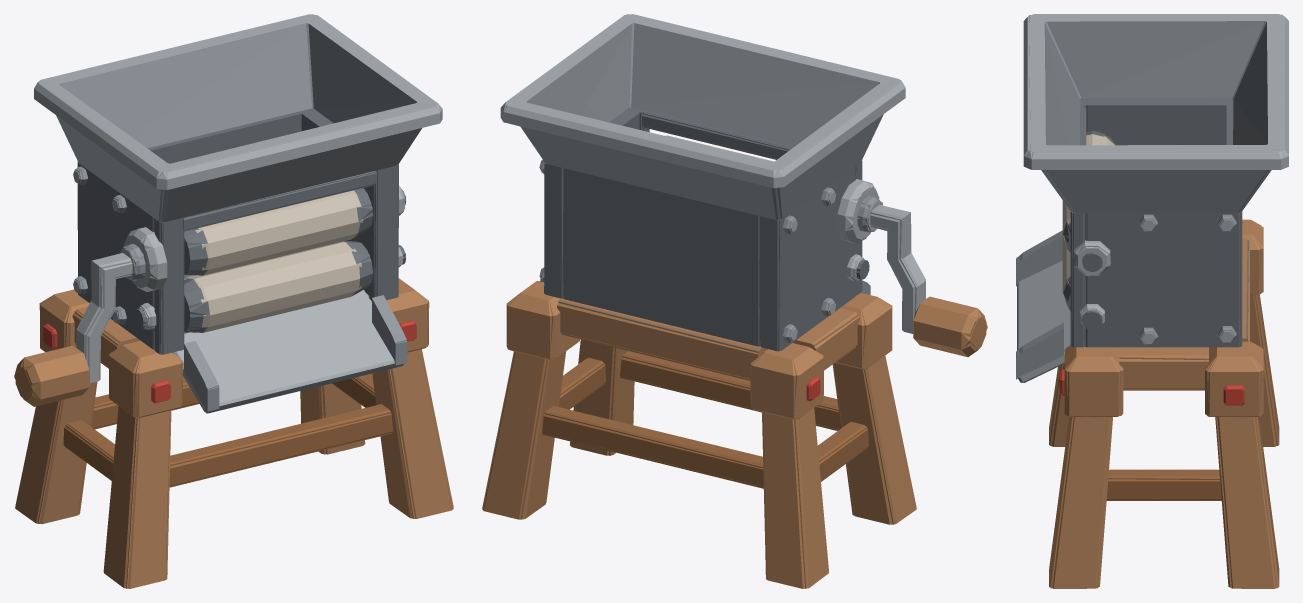
Rendered from FMS_Workshop_STA_04.fbx.
The picture shows the model from 3 angles, left to right: view 1: azimuth 30°, elevation 25°; view 2: azimuth 150°, elevation 25°; view 3: azimuth 270°, elevation 25°; orthographic projection. The views are drawn at different scales.
Parts seen in each view (by area): view 1: FMS_Workshop_STA_04_Frame, FMS_Workshop_STA_04_Frame_Low1, FMS_Workshop_STA_04_Roller_A, FMS_Workshop_STA_04_Roller_B, FMS_Workshop_STA_04_Crank, FMS_Workshop_STA_04_Roller_B_Low1, FMS_Workshop_STA_04_Roller_A_Low1, FMS_Workshop_STA_04_Crank_Low1; view 2: FMS_Workshop_STA_04_Frame, FMS_Workshop_STA_04_Frame_Low1, FMS_Workshop_STA_04_Crank, FMS_Workshop_STA_04_Crank_Low1; view 3: FMS_Workshop_STA_04_Frame, FMS_Workshop_STA_04_Frame_Low1, FMS_Workshop_STA_04_Roller_A, FMS_Workshop_STA_04_Roller_B, FMS_Workshop_STA_04_Roller_A_Low1, FMS_Workshop_STA_04_Roller_B_Low1.
Part boxes in pixels (<box>): FMS_Workshop_STA_04_Frame: <box>15,14,453,588</box>; FMS_Workshop_STA_04_Frame_Low1: <box>15,14,453,588</box>; FMS_Workshop_STA_04_Roller_A: <box>184,188,405,275</box>; FMS_Workshop_STA_04_Roller_B: <box>133,241,406,332</box>; FMS_Workshop_STA_04_Crank: <box>15,244,145,406</box>; FMS_Workshop_STA_04_Roller_B_Low1: <box>133,241,405,332</box>; FMS_Workshop_STA_04_Roller_A_Low1: <box>184,193,405,275</box>; FMS_Workshop_STA_04_Crank_Low1: <box>14,243,145,405</box>; FMS_Workshop_STA_04_Frame: <box>482,14,916,588</box>; FMS_Workshop_STA_04_Frame_Low1: <box>482,14,916,588</box>; FMS_Workshop_STA_04_Crank: <box>857,196,986,356</box>; FMS_Workshop_STA_04_Crank_Low1: <box>857,196,987,356</box>; FMS_Workshop_STA_04_Frame: <box>1016,14,1288,588</box>; FMS_Workshop_STA_04_Frame_Low1: <box>1016,14,1288,588</box>; FMS_Workshop_STA_04_Roller_A: <box>1062,131,1114,271</box>; FMS_Workshop_STA_04_Roller_B: <box>1062,241,1102,330</box>; FMS_Workshop_STA_04_Roller_A_Low1: <box>1063,130,1115,270</box>; FMS_Workshop_STA_04_Roller_B_Low1: <box>1062,235,1102,329</box>.
Size of the model in its own units: 1.24 by 1.2 by 0.7.
